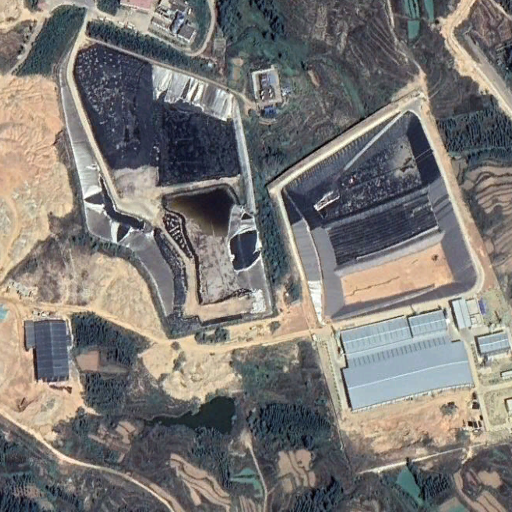lf: (66, 37, 277, 329), (271, 108, 495, 321)
